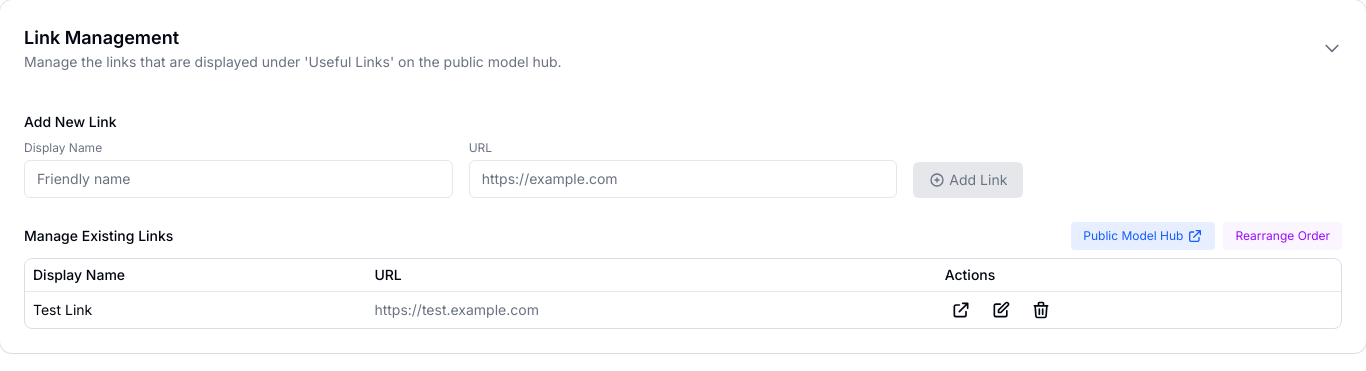
Test: UsefulLinksManagement › should cancel editing when cancel button is clicked
Expected: the text "Test Link" is shown, [25,291,366,328]
Note: Click edit button
Click the element with test id "edit-link-0-Test Link" at (1001,310), box [991,300,1011,320]
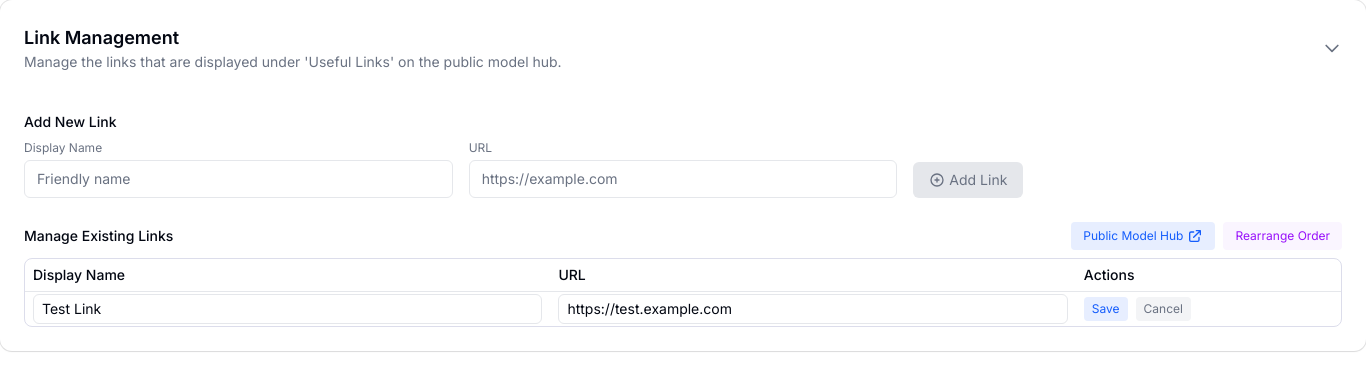
Note: Update the display name
Replace the text in the 1st field showing "Test Link" with "Updated Link" at (288,308), box [33,294,542,324]
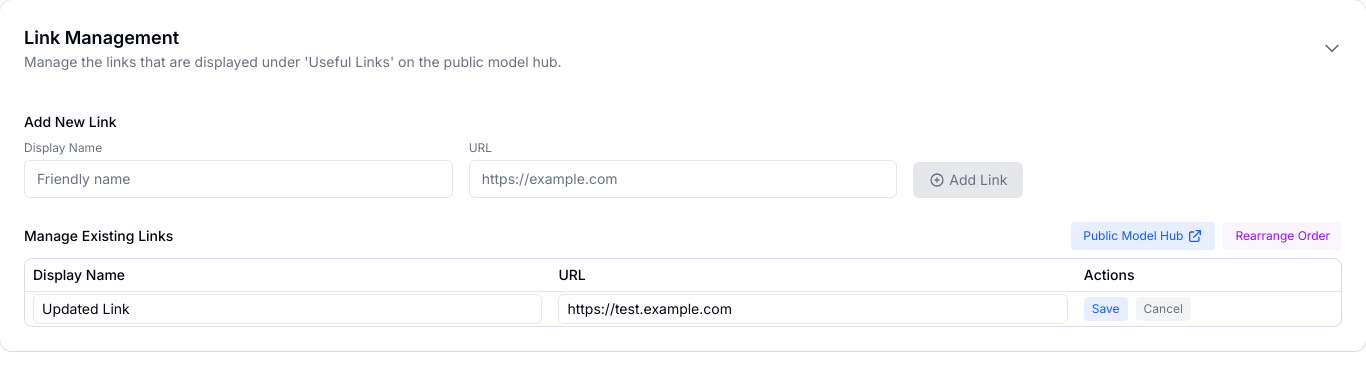
Note: Click cancel
Click the button "Cancel" at (1163,308), box [1136,296,1191,320]
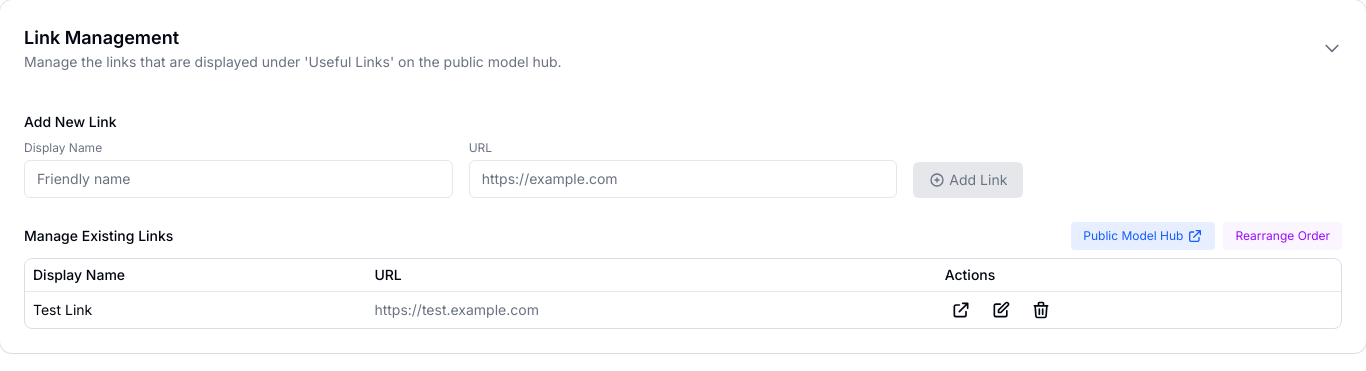
Expected: the field showing "Updated Link" is not shown
Result: the text "Test Link" is shown at [25,291,366,328]
